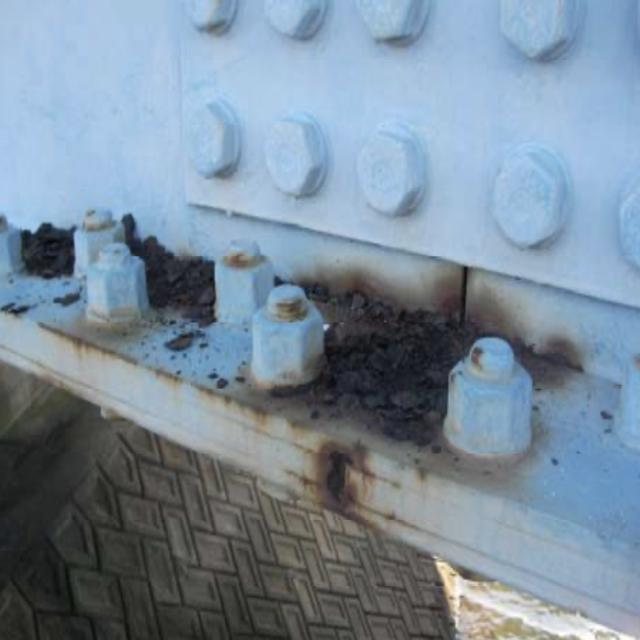corrosion: (24, 197, 569, 527)
